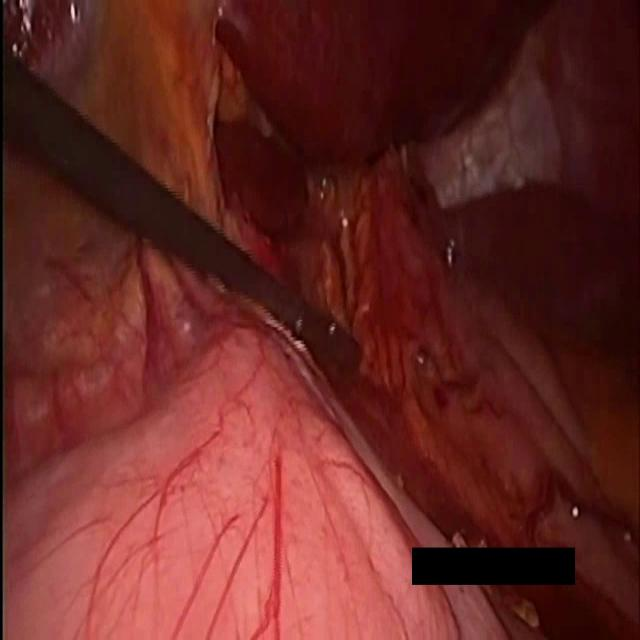surgical-tool: (0, 47, 362, 379)
